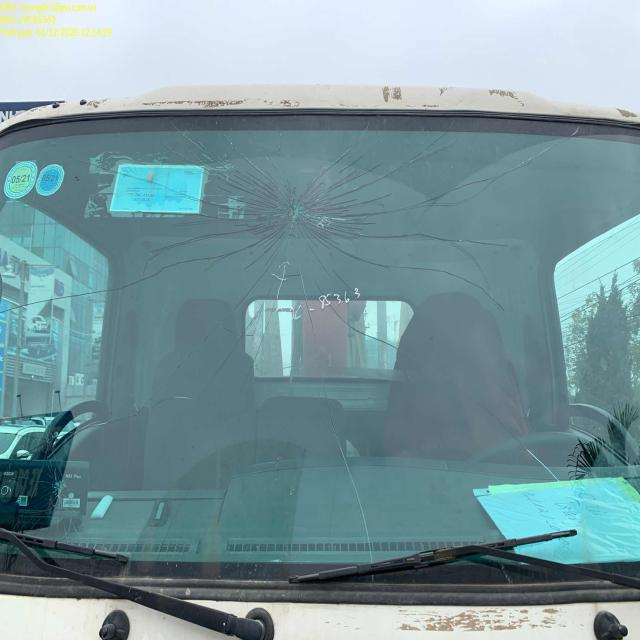Fissure: (346, 132, 596, 248), (141, 121, 240, 226), (241, 170, 348, 265), (200, 259, 293, 368)
